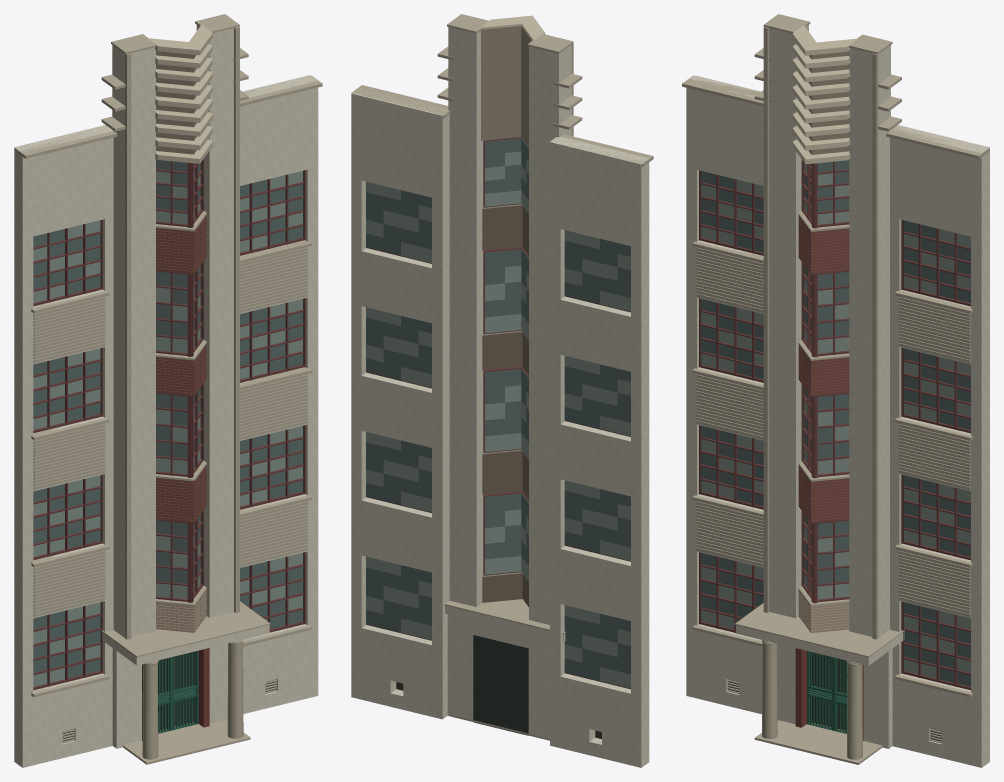
Rendered from xuhui-elisabeth-apartments-north-stair-bay-raw.glb.
3 renders of one model, left to right at view 1: azimuth 30°, elevation 25°; view 2: azimuth 150°, elevation 25°; view 3: azimuth 330°, elevation 25°, orthographic.
Visible parts, largest first — view 1: 伊丽莎白公寓北立面主楼梯间与雨厦; view 2: 伊丽莎白公寓北立面主楼梯间与雨厦; view 3: 伊丽莎白公寓北立面主楼梯间与雨厦.
Part boxes in pixels (left/top/right/bottom): 伊丽莎白公寓北立面主楼梯间与雨厦: left=14, top=14, right=322, bottom=767; 伊丽莎白公寓北立面主楼梯间与雨厦: left=351, top=14, right=653, bottom=767; 伊丽莎白公寓北立面主楼梯间与雨厦: left=682, top=14, right=989, bottom=767.
Size of the model in its own units: 7.92 by 17.91 by 1.89.
Materials: 17 (1 with a texture image).
